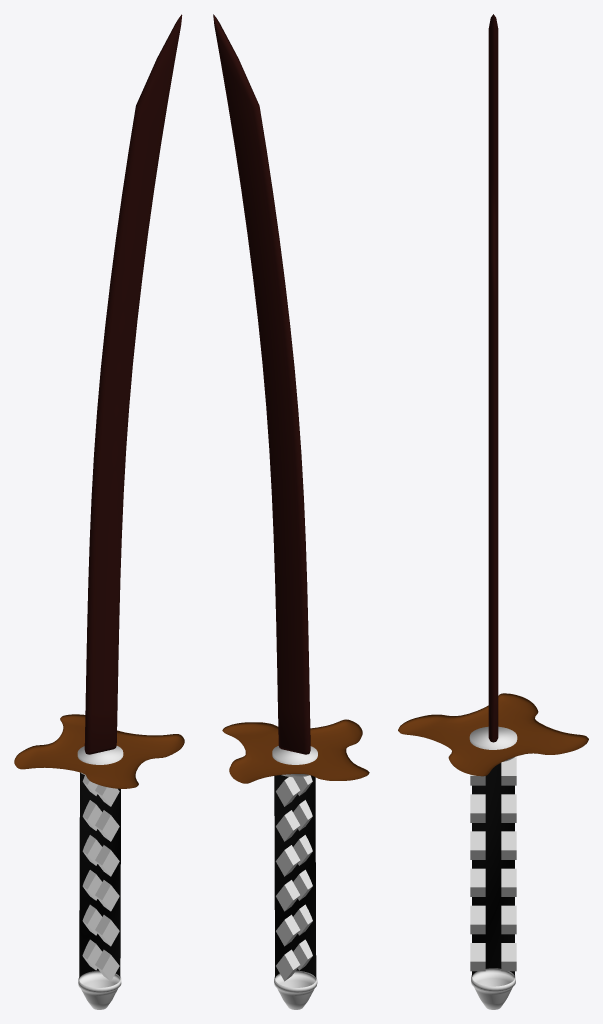
Rendered from Sword.fbx.
3 views of the same model, side by side, from view 1: azimuth 30°, elevation 25°; view 2: azimuth 150°, elevation 25°; view 3: azimuth 270°, elevation 25° (orthographic). The views are drawn at different scales.
Visible parts, largest first — view 1: Sword1; view 2: Sword1; view 3: Sword1.
Part boxes in pixels (left/top/right/bottom): Sword1: left=14, top=14, right=184, bottom=1009; Sword1: left=213, top=14, right=369, bottom=1009; Sword1: left=398, top=14, right=588, bottom=1009.
Bounding box in the file's own units: 14.97 × 86.84 × 14.5.
